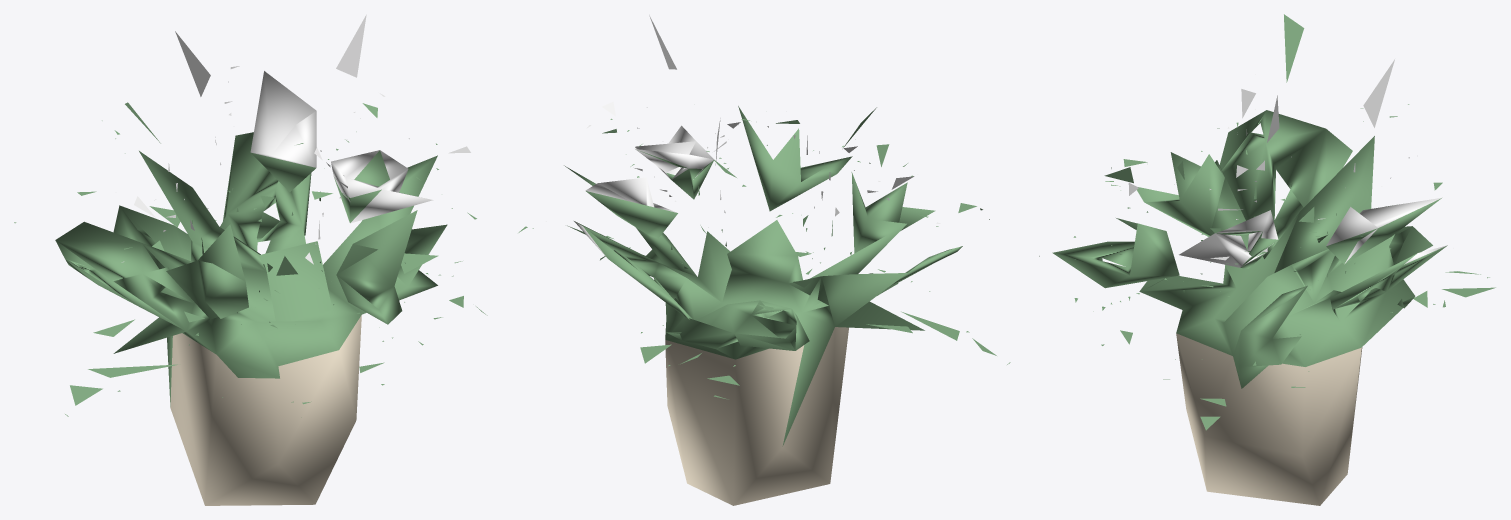
3 renders of one model, left to right at view 1: azimuth 30°, elevation 25°; view 2: azimuth 150°, elevation 25°; view 3: azimuth 270°, elevation 25°, orthographic.
Visible parts, largest first — view 1: Lily arrangement - Meshy silhouette; view 2: Lily arrangement - Meshy silhouette; view 3: Lily arrangement - Meshy silhouette.
Boxes of the visible parts, x1,y1,x2,y2 form: Lily arrangement - Meshy silhouette: (14,14,487,505); Lily arrangement - Meshy silhouette: (518,15,1010,505); Lily arrangement - Meshy silhouette: (1039,14,1495,505).
Bounding box in the file's own units: 80.04 × 75.54 × 71.12.
